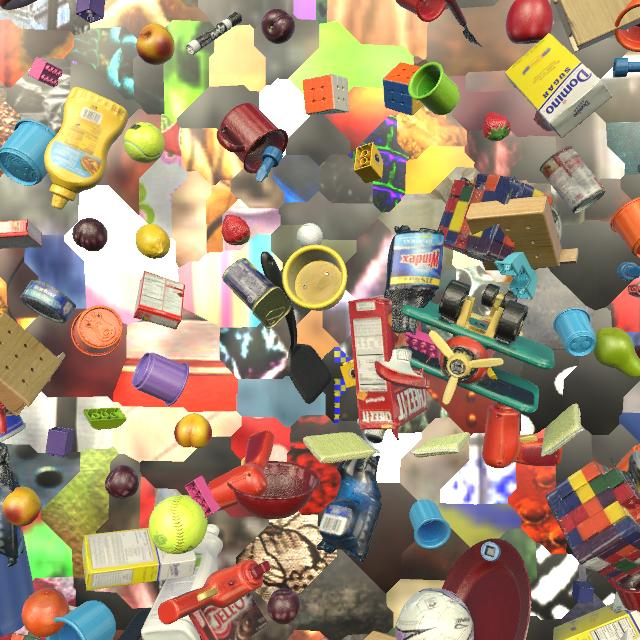ycb_002_master_chef_can: (0, 409, 26, 443), (637, 164, 640, 173)
ycb_003_cracker_box: (348, 295, 428, 430)
ycb_004_sugar_box: (505, 33, 612, 138), (82, 528, 197, 591), (553, 603, 640, 640), (613, 588, 640, 640)
ycb_005_tomato_soup_can: (539, 146, 605, 214)
ycb_006_mustard_bottle: (44, 87, 129, 210)
ycb_007_tuna_fish_can: (20, 280, 76, 323)
ycb_008_pudding_box: (188, 593, 269, 640)
ycb_009_gelatin_box: (133, 271, 185, 330), (0, 220, 42, 249), (320, 637, 329, 640)
ycb_010_potted_meat_can: (222, 258, 292, 329)
ycb_012_strawberry: (222, 214, 251, 245), (483, 112, 511, 141)
ycb_013_apple: (506, 0, 553, 44)
ycb_014_lemon: (135, 224, 171, 259)
ycb_015_peach: (136, 24, 175, 65), (2, 487, 41, 527), (174, 413, 212, 448)
ycb_016_pear: (593, 327, 640, 378)
ycb_017_orange: (22, 588, 70, 637)
ycb_018_plum: (72, 218, 108, 252), (261, 9, 295, 44), (267, 589, 300, 625), (105, 465, 139, 499)
